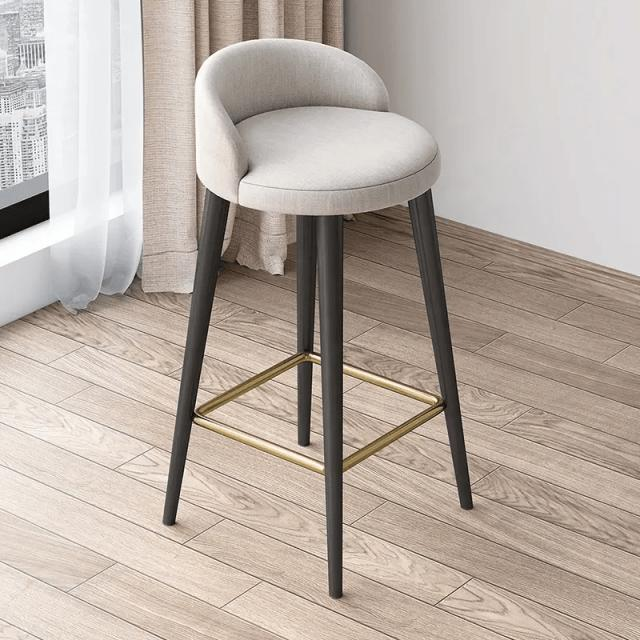chair: (158, 36, 480, 598), (190, 30, 472, 215)
